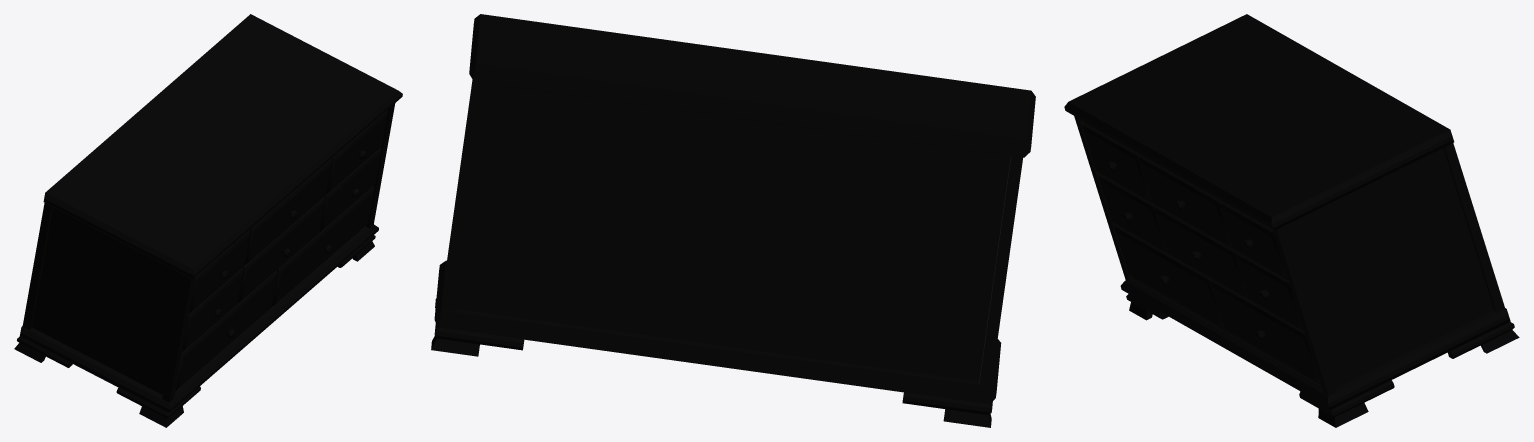
Rendered from desk2.fbx.
3 renders of one model, left to right at view 1: azimuth 30°, elevation 25°; view 2: azimuth 150°, elevation 25°; view 3: azimuth 270°, elevation 25°, orthographic. The views are drawn at different scales.
Parts seen in each view (by area): view 1: node_id7, node_id5, node_id9, node_id13, node_id11; view 2: node_id7, node_id9, node_id13; view 3: node_id7, node_id5, node_id9, node_id13, node_id11.
Part boxes in pixels (<box>): node_id7: <box>19,14,402,412</box>; node_id5: <box>175,110,388,391</box>; node_id9: <box>22,103,395,402</box>; node_id13: <box>14,235,375,427</box>; node_id11: <box>213,150,366,338</box>; node_id7: <box>434,14,1035,404</box>; node_id9: <box>442,80,1022,386</box>; node_id13: <box>431,298,992,427</box>; node_id7: <box>1064,14,1510,408</box>; node_id5: <box>1082,123,1320,383</box>; node_id9: <box>1074,116,1505,395</box>; node_id13: <box>1126,294,1519,427</box>; node_id11: <box>1106,161,1269,340</box>.
Size of the model in its own units: 0.5652 by 0.379 by 0.508.
5 materials, 5 textured.
